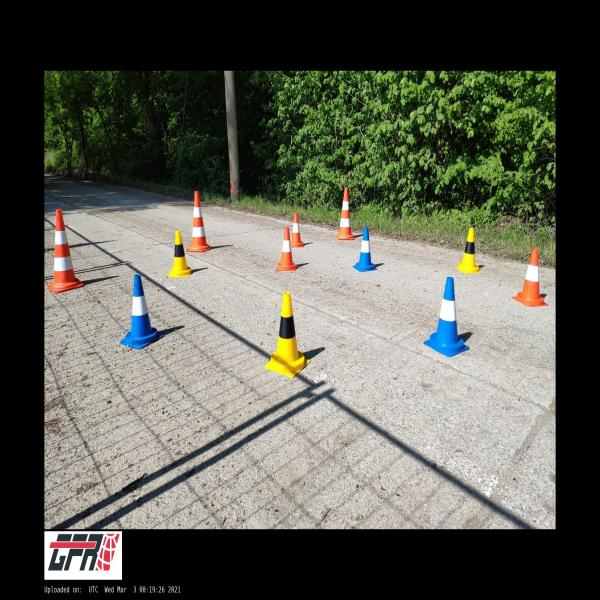blue_cone: (423, 277, 470, 357), (120, 274, 163, 349), (352, 226, 378, 272)
large_orange_cone: (49, 209, 84, 293), (186, 191, 212, 252), (336, 187, 355, 240)
orange_cone: (512, 248, 549, 307), (276, 226, 298, 271), (291, 212, 304, 248)
yellow_cone: (265, 292, 310, 378), (456, 228, 483, 274), (168, 229, 192, 277)
